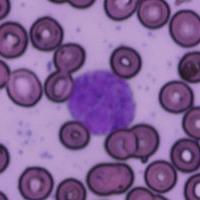B: (66, 68, 136, 136)
